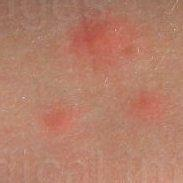Mosquito: (70, 18, 133, 66), (43, 105, 74, 130), (131, 92, 161, 117)
